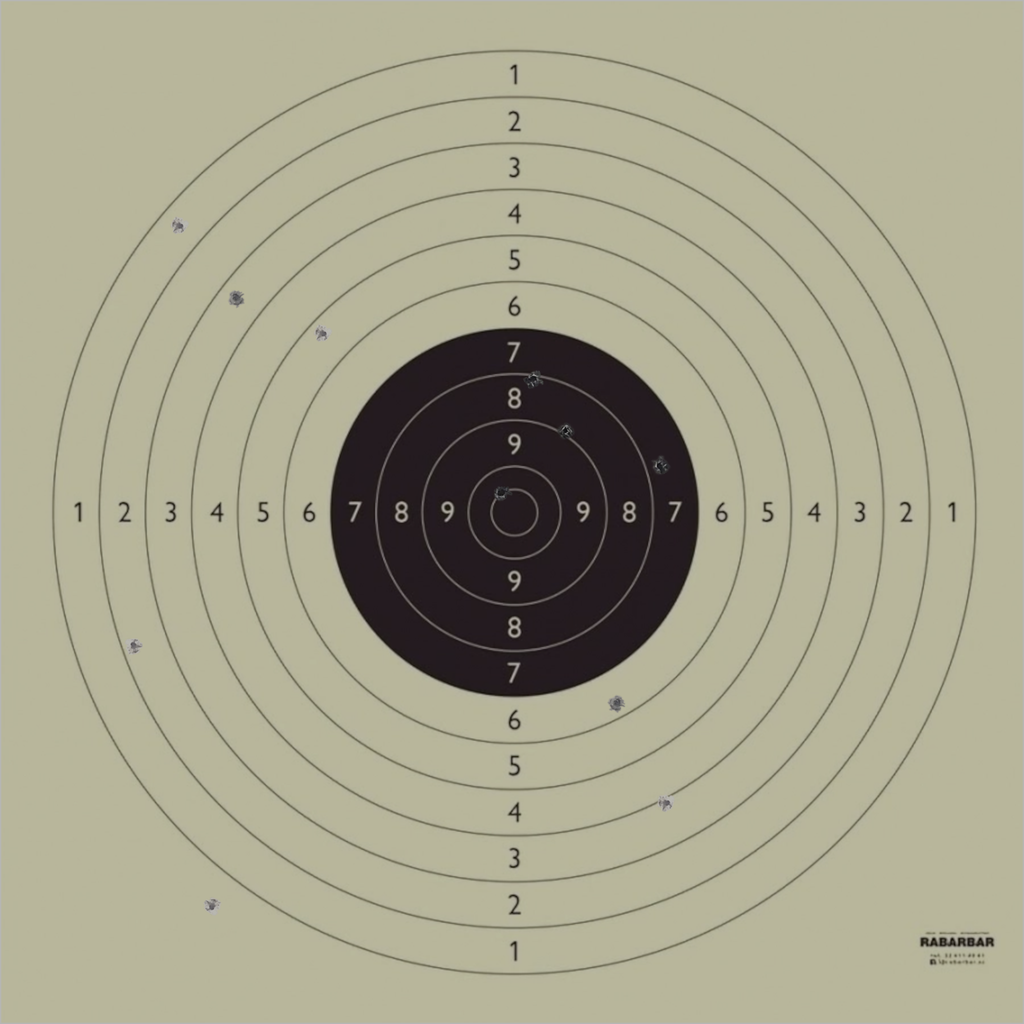0 punktow: (203, 897, 221, 916)
1 punkt: (170, 217, 189, 235)
10 punktow: (492, 484, 511, 502)
2 punkty: (125, 636, 143, 655)
3 punkty: (227, 289, 245, 307)
4 punkty: (657, 794, 676, 812)
5 punktow: (314, 324, 332, 343)
6 punktow: (608, 694, 626, 712)
7 punktow: (651, 457, 669, 475)
8 punktow: (524, 370, 542, 389)
9 punktow: (556, 421, 575, 440)
